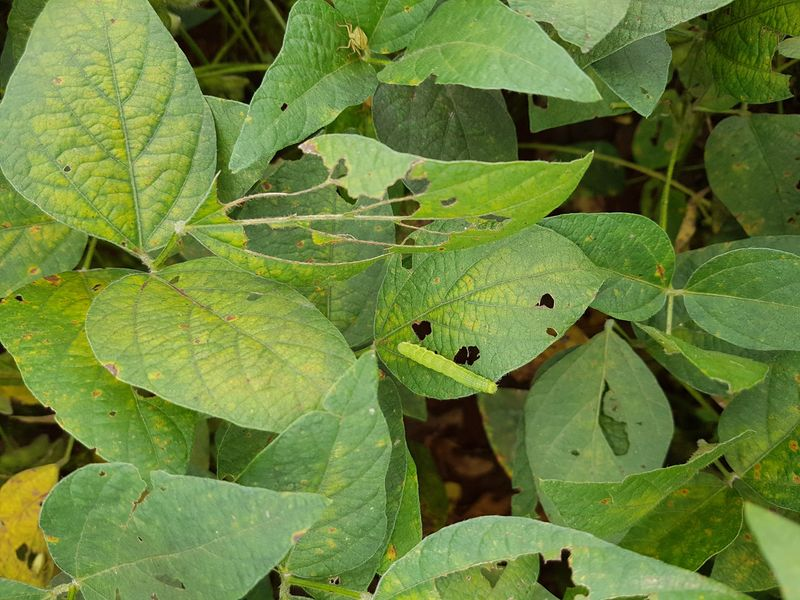Anticarsia_gemmatalis: (387, 334, 504, 405)
Euschistus_heros_ninfa: (332, 18, 374, 60)
